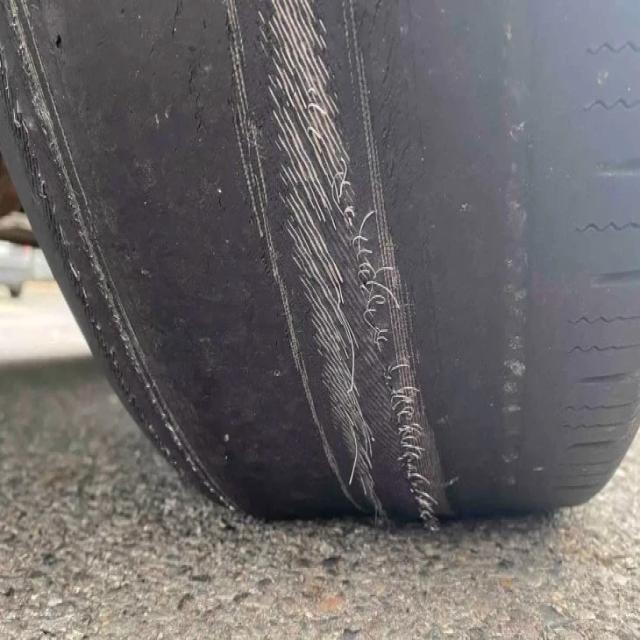Flat spots: (206, 0, 572, 510), (18, 6, 200, 347)
